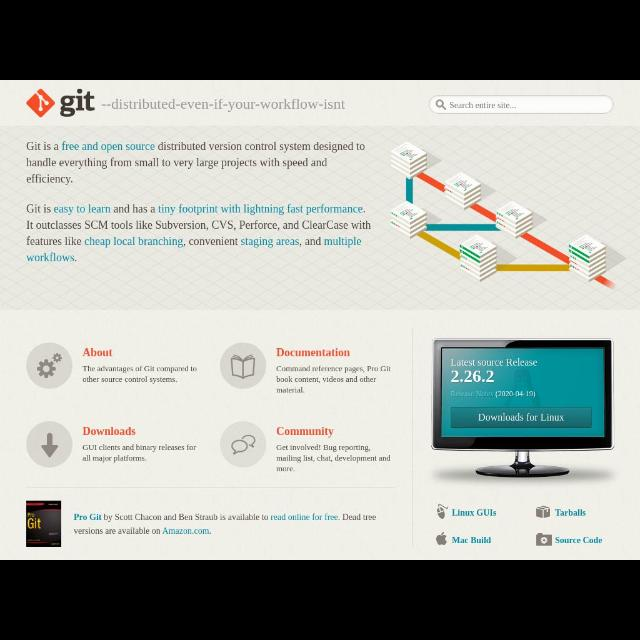backgroundimage: (1, 126, 640, 310)
icon: (536, 532, 552, 546), (437, 504, 449, 520), (536, 506, 550, 518), (437, 531, 448, 545), (435, 99, 447, 111)
image: (432, 339, 614, 478), (220, 342, 268, 390), (26, 343, 74, 389), (26, 422, 74, 468), (220, 422, 268, 468), (26, 500, 62, 548), (26, 90, 56, 118)
input: (430, 96, 614, 114)
text: (25, 204, 371, 262), (26, 142, 366, 184), (74, 514, 376, 534), (100, 99, 346, 113), (276, 365, 392, 393), (276, 444, 392, 472), (82, 444, 196, 464), (82, 366, 198, 384), (60, 89, 94, 117), (276, 347, 350, 357), (278, 426, 334, 438), (449, 101, 517, 109), (82, 426, 136, 436), (452, 508, 496, 518), (554, 536, 602, 544), (82, 348, 114, 358), (452, 536, 491, 544), (555, 508, 587, 516)
